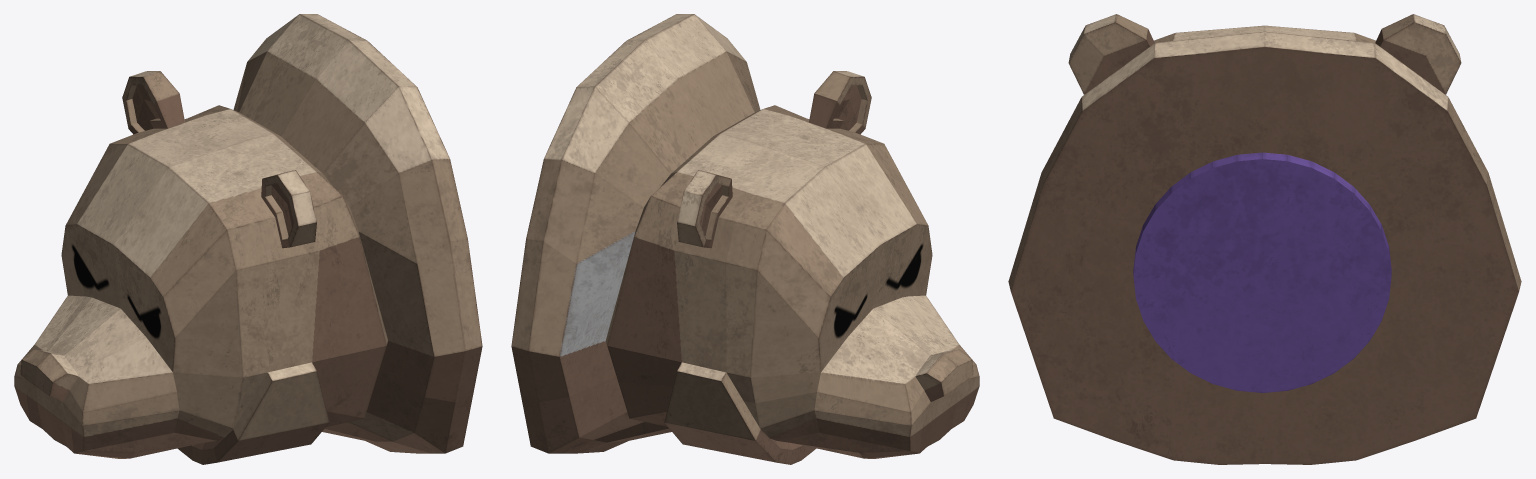
Rendered from cabeza_oso.fbx.
The picture shows the model from 3 angles, left to right: view 1: azimuth 30°, elevation 25°; view 2: azimuth 150°, elevation 25°; view 3: azimuth 270°, elevation 25°; orthographic projection. The views are drawn at different scales.
Visible parts, largest first — view 1: Cube.002; view 2: Cube.002; view 3: Cube.002, Cylinder.005.
Boxes of the visible parts, left/top/right/bottom form: Cube.002: left=14, top=14, right=482, bottom=464; Cube.002: left=511, top=14, right=979, bottom=464; Cube.002: left=1008, top=14, right=1521, bottom=464; Cylinder.005: left=1133, top=152, right=1391, bottom=392.
Bounding box in the file's own units: 27.7 × 29.61 × 32.27.
